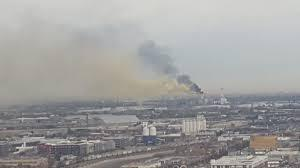smoke: (137, 40, 205, 95)
